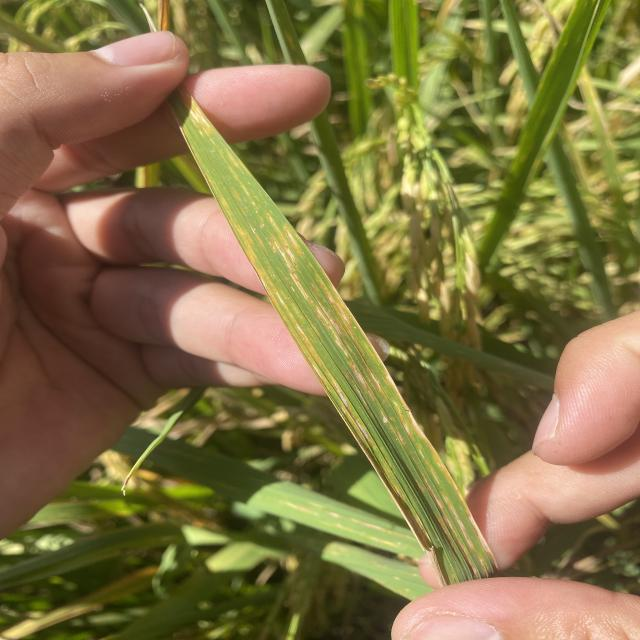Dom soc vi khuan: (329, 379, 376, 448), (317, 300, 357, 360), (274, 240, 310, 300), (423, 477, 457, 536), (316, 305, 350, 358), (350, 363, 375, 401)
